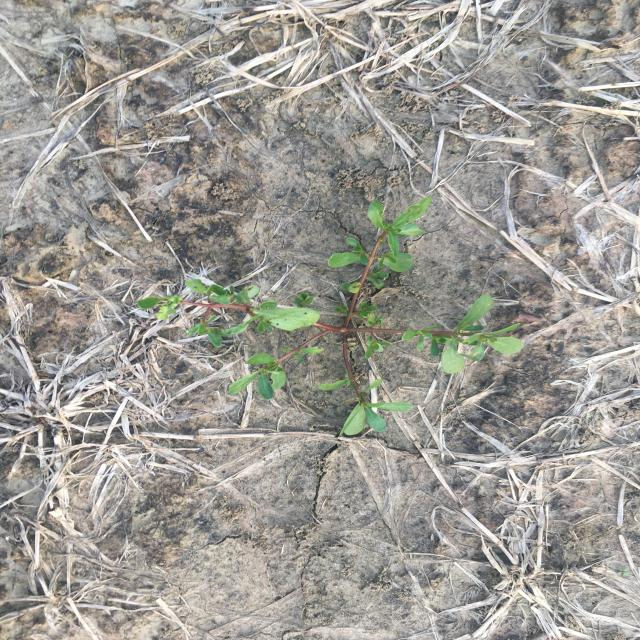Purslane: (133, 195, 527, 439)
